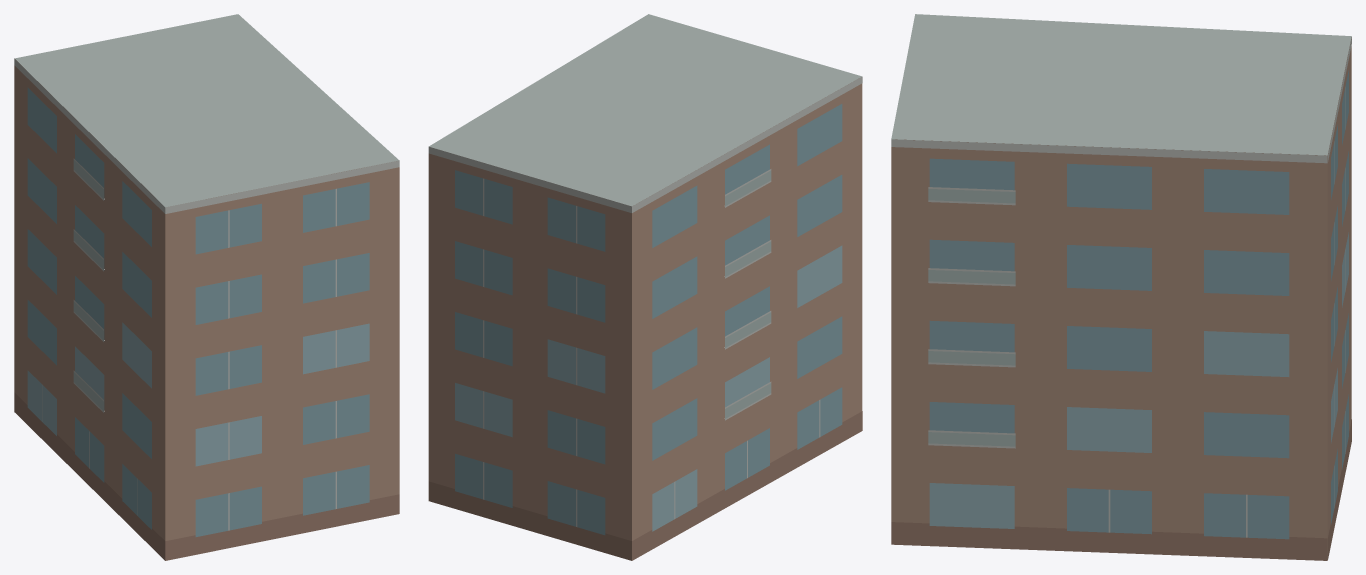
File: survey-upis-32766891.glb
3 views of the same model, side by side, from view 1: azimuth 30°, elevation 25°; view 2: azimuth 150°, elevation 25°; view 3: azimuth 270°, elevation 25° (orthographic). The views are drawn at different scales.
Visible parts, largest first — view 1: survey-upis-32766891.tmp; view 2: survey-upis-32766891.tmp; view 3: survey-upis-32766891.tmp.
Part boxes in pixels (x1,y1,x2,y2): survey-upis-32766891.tmp: [14, 14, 399, 560]; survey-upis-32766891.tmp: [428, 14, 862, 560]; survey-upis-32766891.tmp: [891, 14, 1351, 560].
Size of the model in its own units: 9.52 by 12.7 by 13.09.
